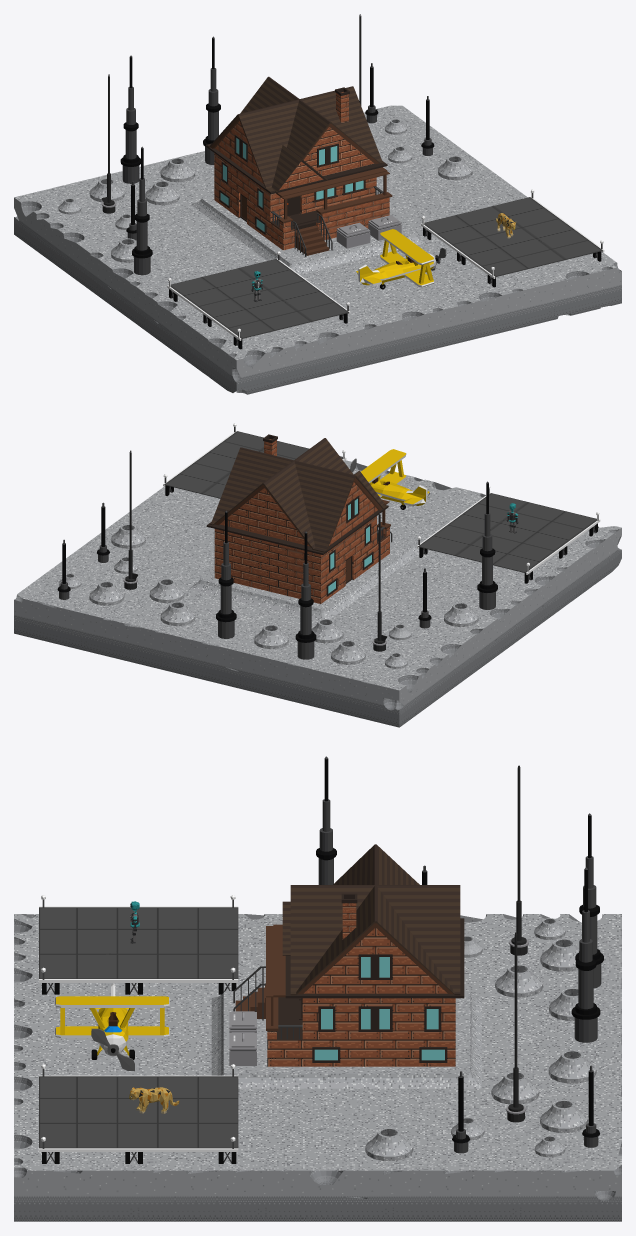
3 renders of one model, top to bottom at view 1: azimuth 30°, elevation 25°; view 2: azimuth 150°, elevation 25°; view 3: azimuth 270°, elevation 25°, orthographic. The views are drawn at different scales.
Visible parts, largest first — view 1: Cube.027, Cube.469, Cube.025, Cube.026, Cube.028, VEHICLES_AIRPLANE, Cylinder.020, Cylinder.021, Cylinder.017, Cube.029, Cylinder.027, Cylinder.033 (+3 smaller); view 2: Cube.027, Cube.469, Cube.025, Cube.028, Cube.026, VEHICLES_AIRPLANE, Cylinder.020, Cylinder.021, Cylinder.017, Cylinder.031, Cylinder.028, Cylinder.029 (+7 smaller); view 3: Cube.027, Cube.469, Cube.025, Cube.026, Cube.028, VEHICLES_AIRPLANE, Cylinder.017, Cylinder.020, Cylinder.021, Cylinder.033, Cylinder.031, Cylinder.029 (+10 smaller).
Part boxes in pixels (box(x1,y1,x2,y2)): Cube.027: box(14, 105, 621, 394); Cube.469: box(205, 76, 392, 256); Cube.025: box(167, 251, 350, 349); Cube.026: box(421, 189, 604, 287); Cube.028: box(191, 195, 424, 274); VEHICLES_AIRPLANE: box(356, 229, 446, 289); Cylinder.020: box(120, 55, 140, 183); Cylinder.021: box(132, 146, 152, 275); Cylinder.017: box(203, 36, 220, 164); Cube.029: box(336, 222, 370, 248); Cylinder.027: box(160, 158, 195, 182); Cylinder.033: box(438, 156, 472, 180); Cube.027: box(14, 460, 621, 727); Cube.469: box(206, 434, 392, 603); Cube.025: box(417, 485, 600, 583); Cube.028: box(190, 538, 419, 620); Cube.026: box(163, 423, 346, 498); VEHICLES_AIRPLANE: box(350, 449, 429, 509); Cylinder.020: box(295, 531, 316, 659); Cylinder.021: box(477, 481, 497, 609); Cylinder.017: box(216, 510, 236, 638); Cylinder.031: box(89, 581, 124, 605); Cylinder.028: box(331, 640, 365, 664); Cylinder.029: box(160, 601, 195, 626); Cube.027: box(14, 914, 621, 1221); Cube.469: box(233, 844, 464, 1066); Cube.025: box(39, 895, 238, 994); Cube.026: box(39, 1064, 238, 1163); Cube.028: box(211, 991, 481, 1088); VEHICLES_AIRPLANE: box(55, 983, 169, 1071); Cylinder.017: box(571, 867, 600, 1042); Cylinder.020: box(575, 813, 603, 988); Cylinder.021: box(316, 756, 336, 884); Cylinder.033: box(365, 1128, 413, 1160); Cylinder.031: box(540, 1100, 587, 1132); Cylinder.029: box(548, 1050, 596, 1083).
Size of the model in its own units: 4000 by 1807 by 4000.
Materials: 39 (5 with a texture image).
